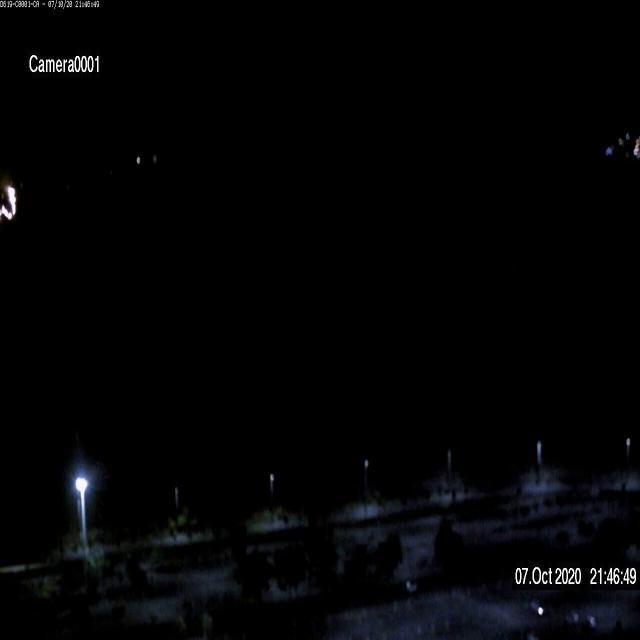Fire: (0, 178, 18, 222)
